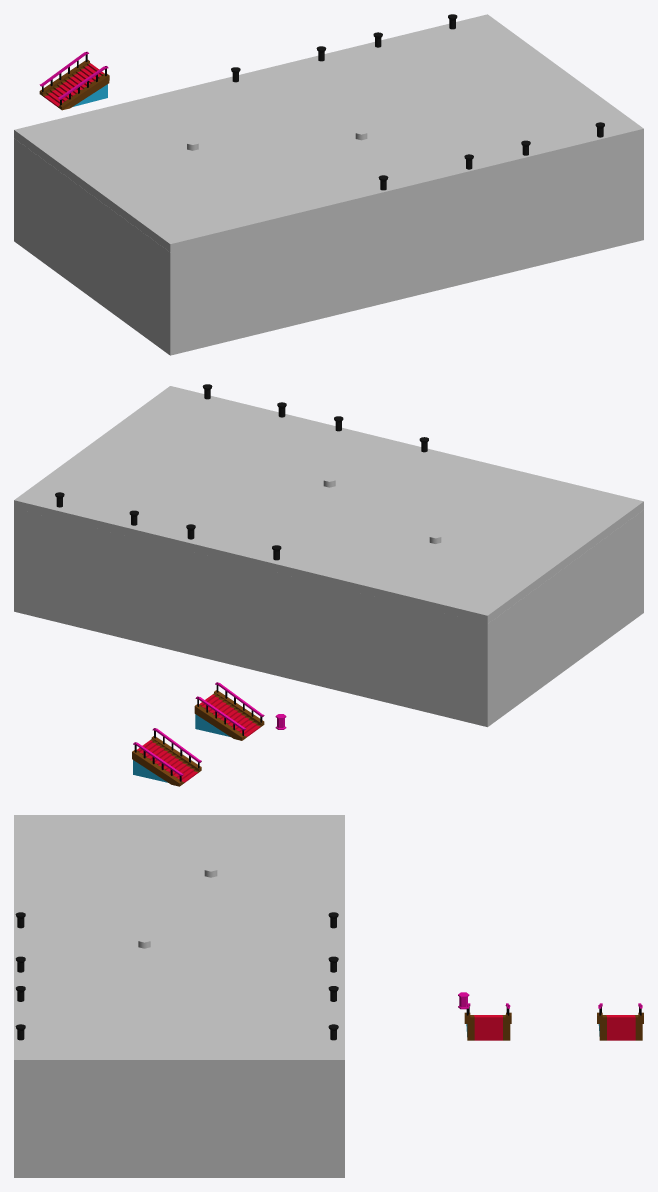
Rendered from AllModels.fbx.
The picture shows the model from 3 angles, top to bottom: view 1: azimuth 30°, elevation 25°; view 2: azimuth 150°, elevation 25°; view 3: azimuth 270°, elevation 25°; orthographic projection. The views are drawn at different scales.
Parts seen in each view (by area): view 1: Ceiling, Cube, StaircaseBase.001, StaircaseSupport.001; view 2: Ceiling, Cube, Staircase, StaircaseBase.001, StaircaseSupport.001; view 3: Ceiling, Cube, Staircase, StaircaseBase.001.
Part boxes in pixels (box(x1,y1,x2,y2)): Ceiling: box(14, 14, 643, 252); Cube: box(14, 137, 643, 355); StaircaseBase.001: box(42, 62, 107, 107); StaircaseSupport.001: box(39, 60, 109, 110); Ceiling: box(14, 386, 643, 623); Cube: box(14, 508, 643, 727); Staircase: box(194, 682, 264, 740); StaircaseBase.001: box(133, 739, 198, 784); StaircaseSupport.001: box(132, 736, 201, 786); Ceiling: box(14, 815, 344, 1069); Cube: box(14, 1069, 344, 1177); Staircase: box(464, 1003, 511, 1040); StaircaseBase.001: box(598, 1015, 642, 1040).
Bounding box in the file's own units: 20042 × 4983 × 21797.
